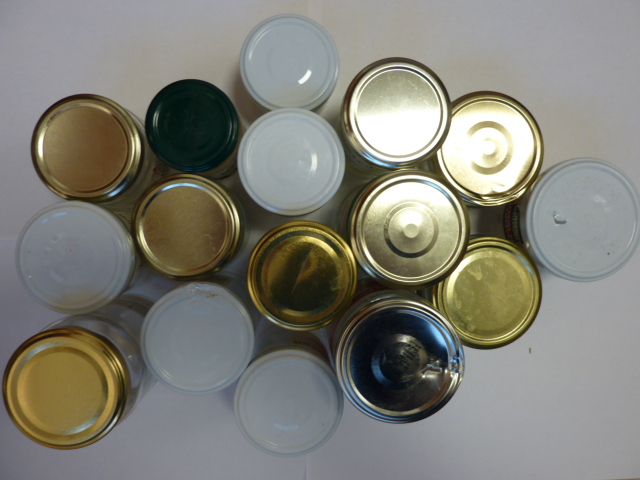damaged: (336, 298, 464, 427), (528, 157, 636, 281), (437, 90, 546, 207), (247, 223, 357, 330)
intact: (351, 172, 470, 288), (15, 202, 133, 314), (434, 240, 541, 349), (237, 108, 345, 215), (29, 95, 138, 201), (345, 59, 450, 165), (134, 177, 241, 279), (239, 11, 340, 112), (144, 80, 237, 172)
